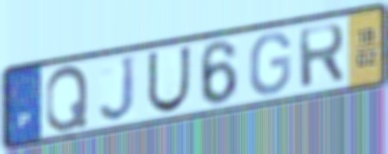6: (198, 37, 242, 109)
G: (247, 31, 293, 97)
J: (97, 52, 138, 124)
Q: (43, 63, 90, 134)
R: (296, 21, 347, 91)
U: (145, 44, 193, 116)
